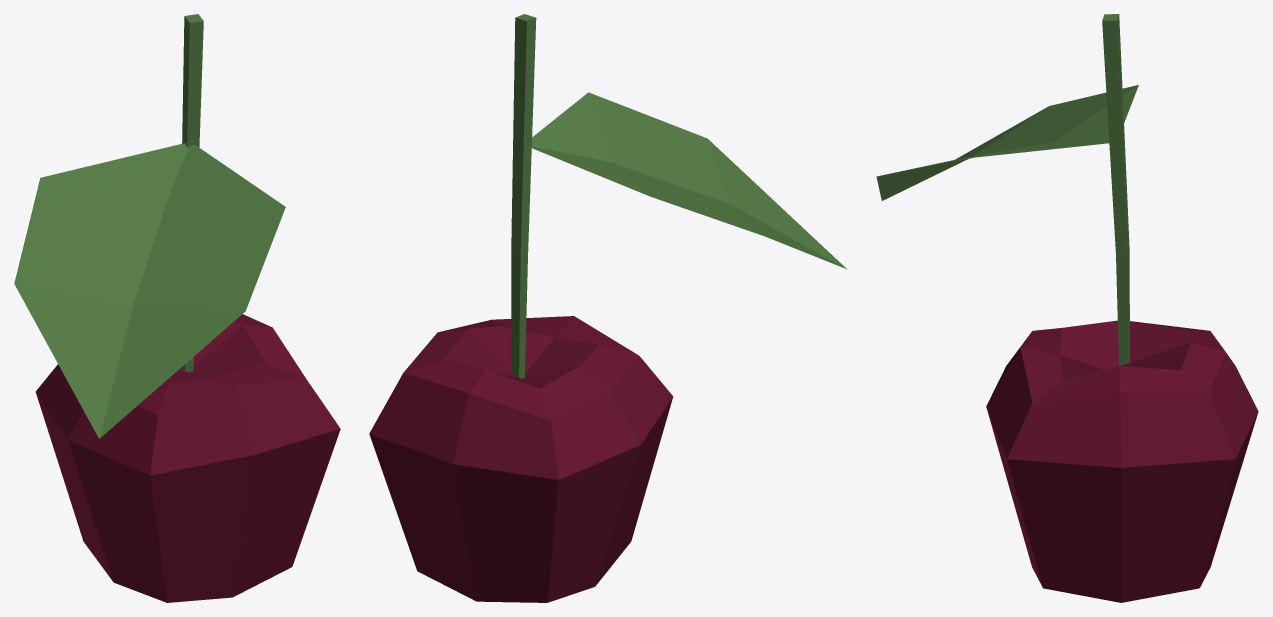
File: cherry.fbx
The picture shows the model from 3 angles, left to right: view 1: azimuth 30°, elevation 25°; view 2: azimuth 150°, elevation 25°; view 3: azimuth 270°, elevation 25°; orthographic projection.
Parts seen in each view (by area): view 1: cherry; view 2: cherry; view 3: cherry.
Part boxes in pixels (x1=…): cherry: x1=14, y1=14, x2=340, y2=602; cherry: x1=369, y1=14, x2=847, y2=602; cherry: x1=876, y1=14, x2=1258, y2=602.
Size of the model in its own units: 4.35 by 7.09 by 4.39.
Materials: 1 (1 with a texture image).
